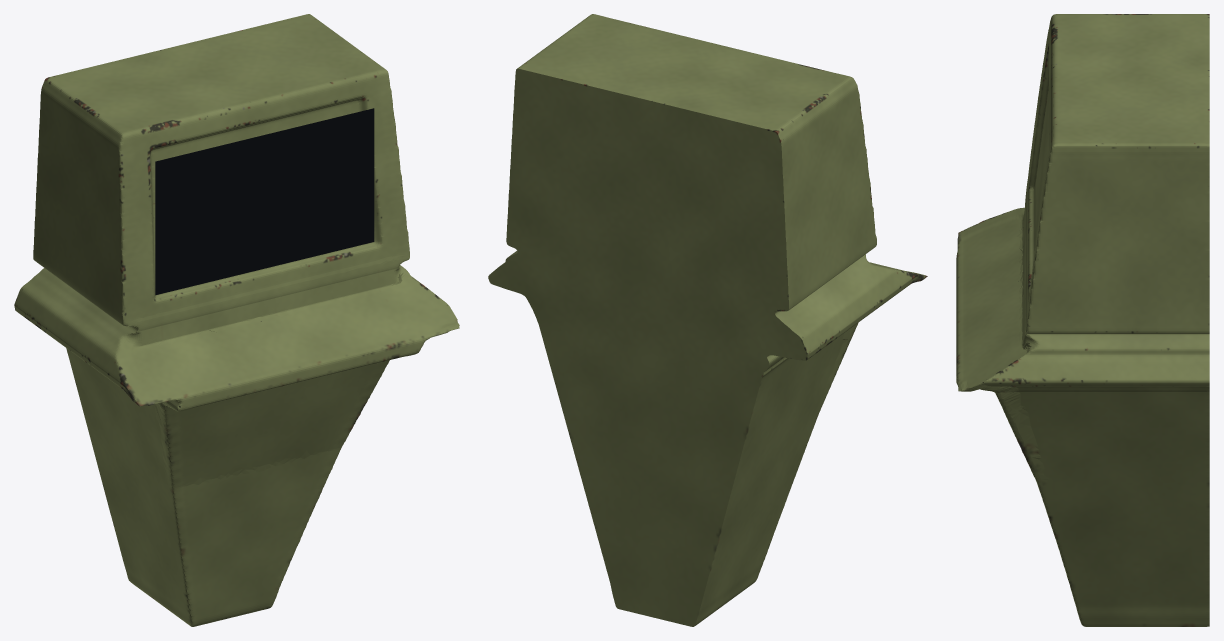
The model's file is console.glb.
3 renders of one model, left to right at view 1: azimuth 30°, elevation 25°; view 2: azimuth 150°, elevation 25°; view 3: azimuth 270°, elevation 25°, orthographic. The views are drawn at different scales.
Parts seen in each view (by area): view 1: ConsoleBody, DisplayPlane; view 2: ConsoleBody; view 3: ConsoleBody.
Boxes of the visible parts, x1,y1,x2,y2 form: ConsoleBody: (14, 14, 459, 626); DisplayPlane: (155, 108, 374, 295); ConsoleBody: (488, 14, 927, 626); ConsoleBody: (956, 14, 1209, 626).
Bounding box in the file's own units: 1.1 × 1.7 × 0.7313.
2 materials, 1 textured.
